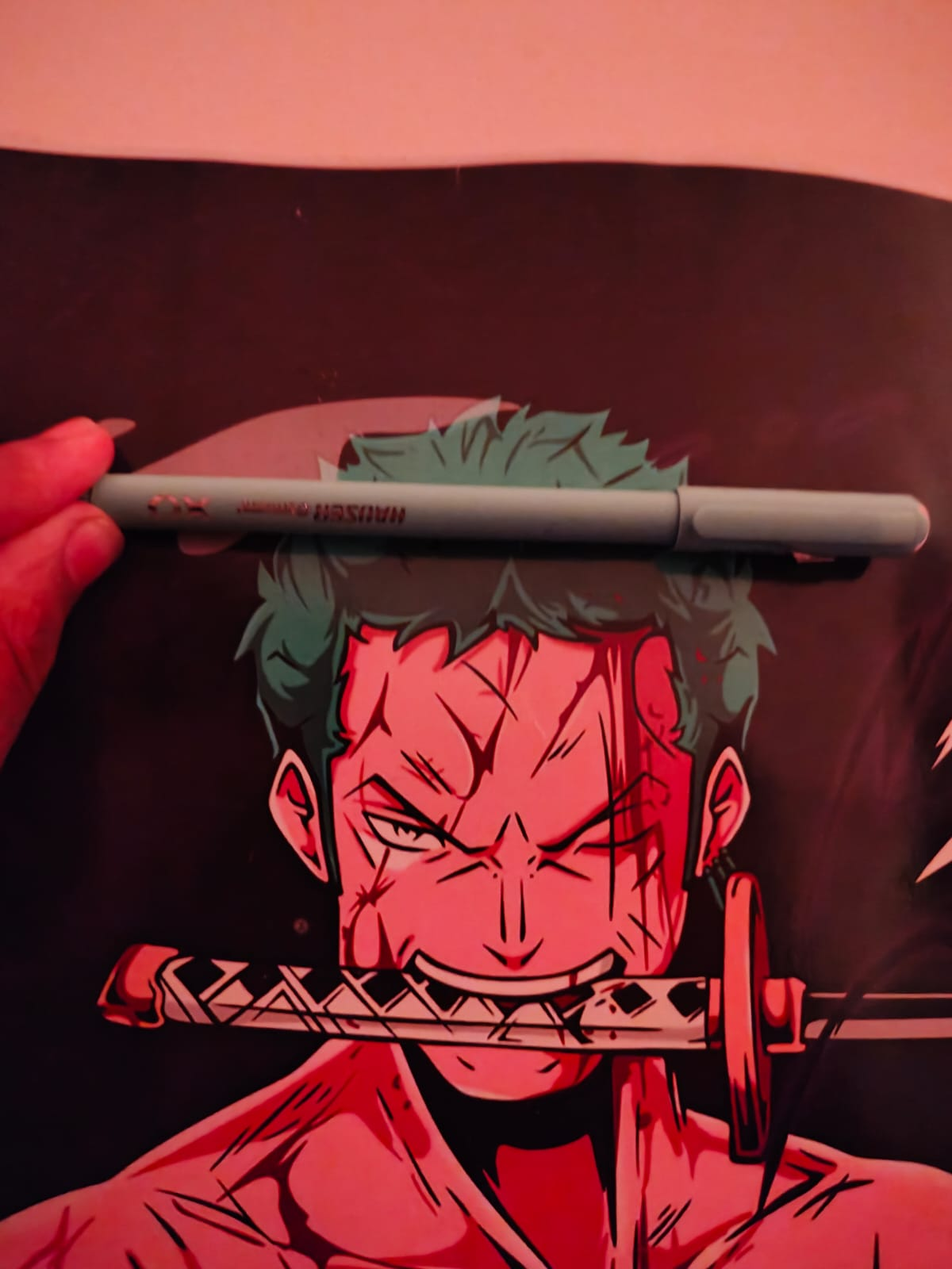pen: (68, 438, 936, 596)
